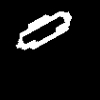chain: (16, 12, 71, 49)
